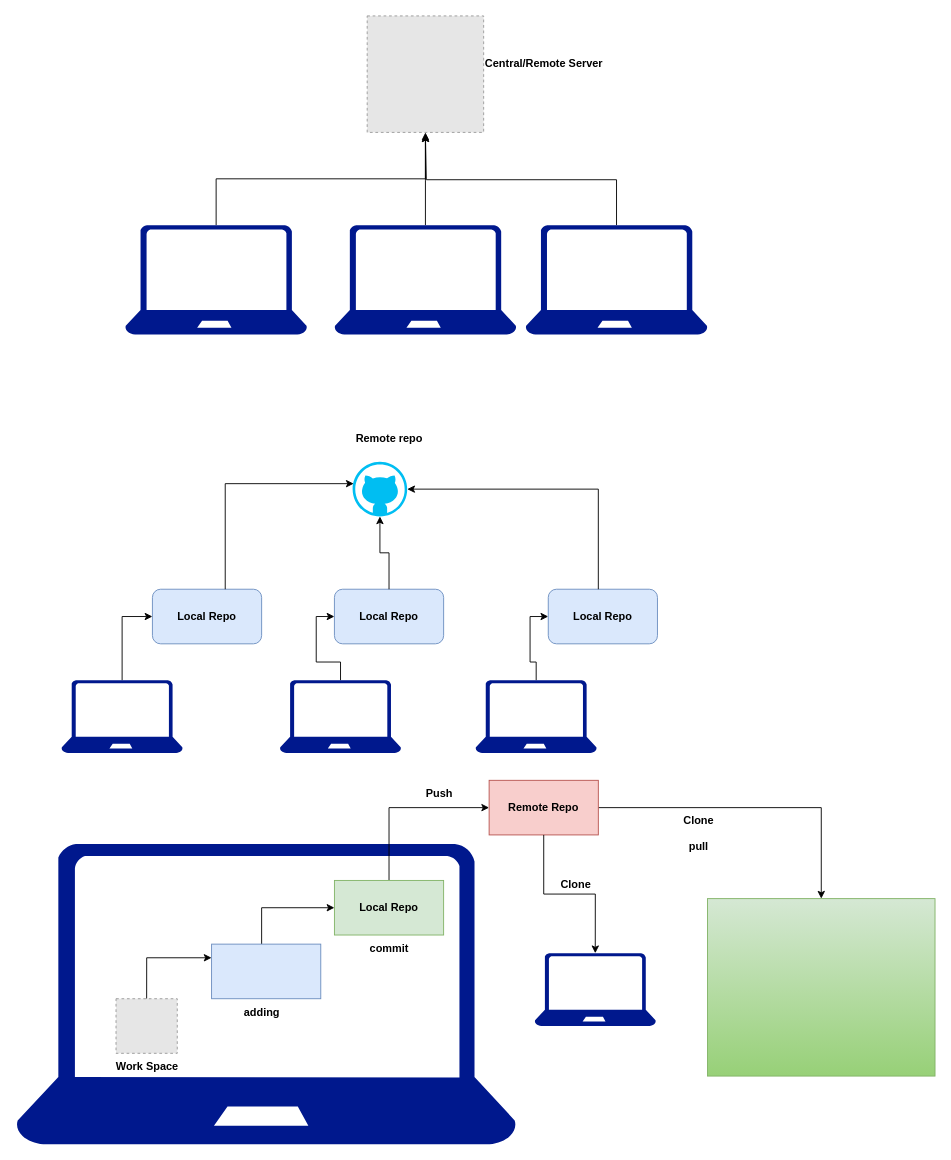
This 951x1160 diagram has some shape labels left out. Grey dashed boxes stand in for pictures. The shapes that lost their labels are listed below. From the top down, each one's centre as x and y in pixels, then its label:
At point (266, 971): "Staging area".
At point (821, 987): "Linux".
